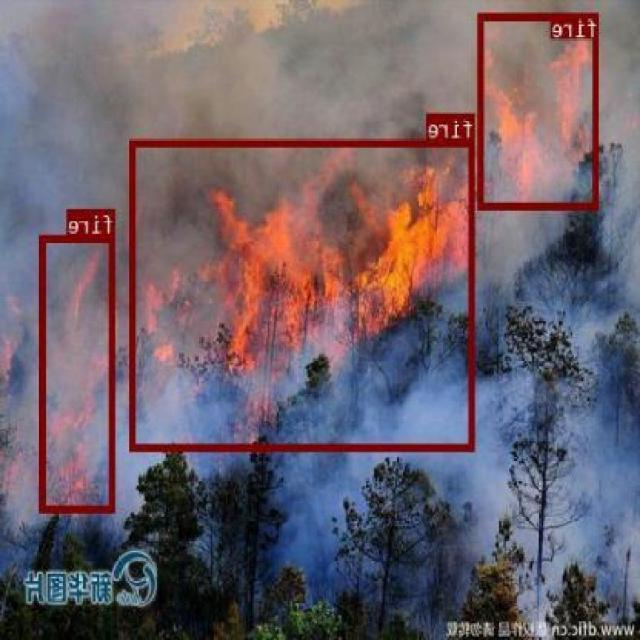Fire: (130, 139, 476, 450), (479, 12, 599, 208), (41, 234, 117, 512)
